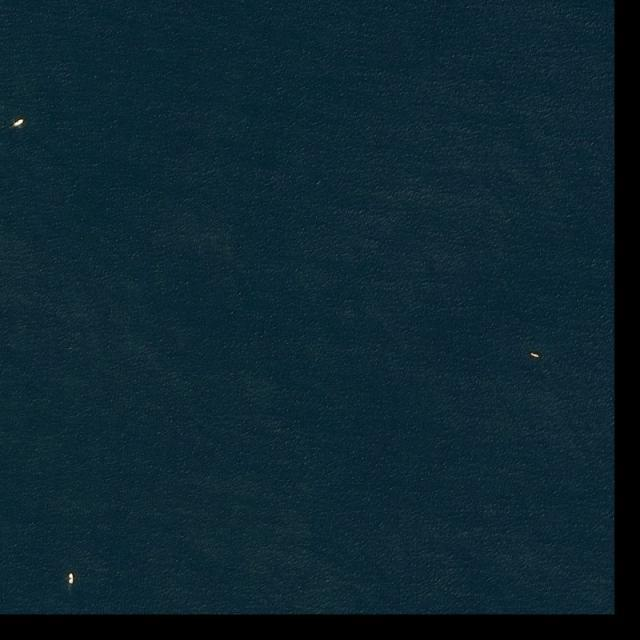ship: (11, 118, 25, 129), (529, 352, 541, 358), (68, 573, 74, 584)
